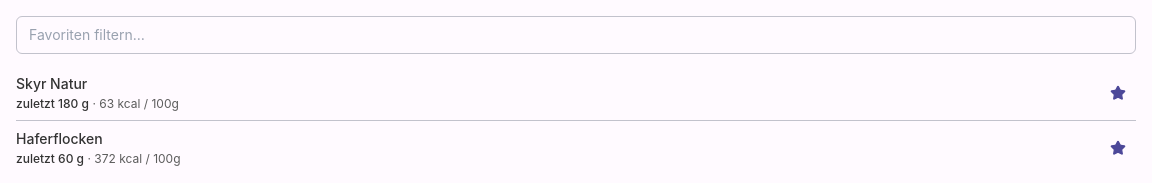
Scenario: FavoritesPanel › star › renders every row favorited and removes it from the list in place
The image size is (1152, 183).
Click the button named "„Skyr Natur“ aus Favoriten entfernen" at [1118, 93], box [1100,75,1136,111]
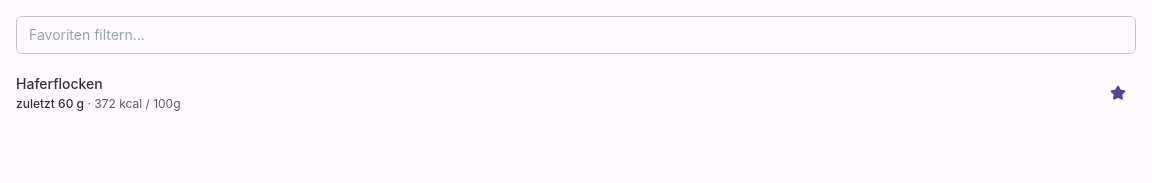
Expected: the text "Haferflocken" is shown, [16,75,103,92]
Result: the button "Skyr Natur" is gone
